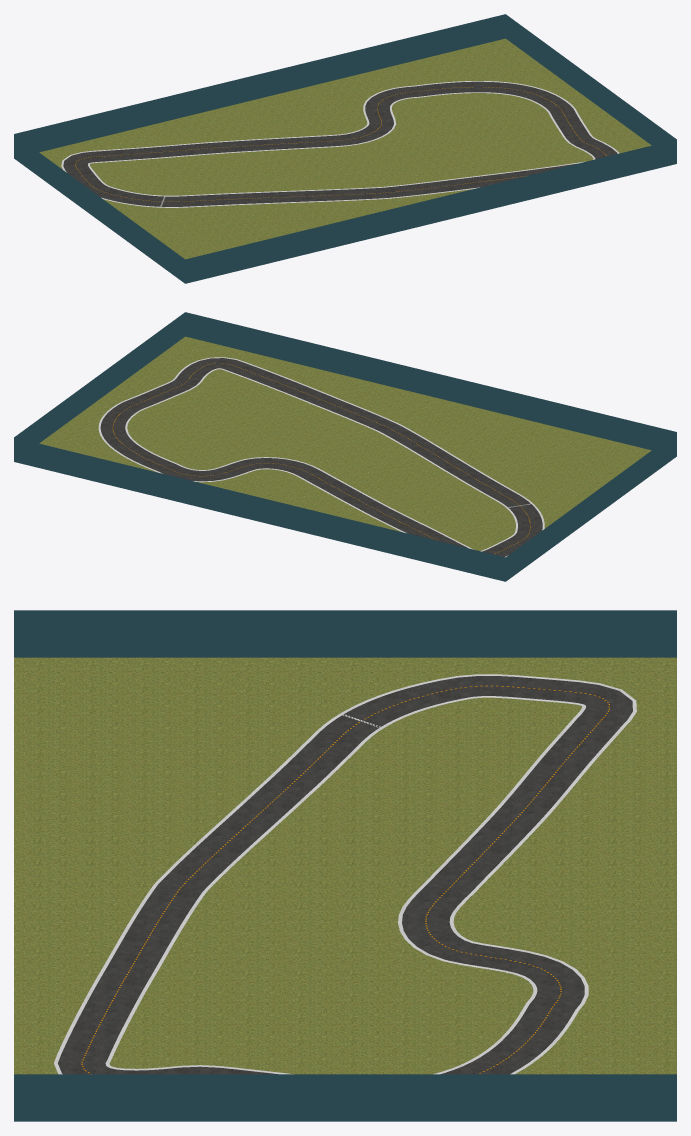
The model's file is 2022_october_open_cw.dae.
The picture shows the model from 3 angles, top to bottom: view 1: azimuth 30°, elevation 25°; view 2: azimuth 150°, elevation 25°; view 3: azimuth 270°, elevation 25°; orthographic projection. The views are drawn at different scales.
Parts seen in each view (by area): view 1: field, wall, road, ol, il, cl; view 2: field, wall, road, ol, il, cl; view 3: field, wall, road, ol, il, cl.
Boxes of the visible parts, left/top/right/bottom form: field: left=39, top=38, right=651, bottom=259; wall: left=14, top=14, right=676, bottom=283; road: left=63, top=81, right=617, bottom=206; ol: left=88, top=92, right=595, bottom=196; il: left=61, top=81, right=619, bottom=207; cl: left=75, top=87, right=606, bottom=201; field: left=39, top=336, right=651, bottom=550; wall: left=14, top=312, right=676, bottom=581; road: left=100, top=358, right=542, bottom=556; ol: left=125, top=368, right=517, bottom=551; il: left=98, top=357, right=544, bottom=557; cl: left=112, top=363, right=530, bottom=553; field: left=14, top=657, right=676, bottom=1074; wall: left=14, top=610, right=676, bottom=1121; road: left=58, top=676, right=632, bottom=1074; ol: left=105, top=696, right=585, bottom=1074; il: left=54, top=674, right=636, bottom=1074; cl: left=81, top=685, right=609, bottom=1074.
Bounding box in the file's own units: 21.04 × 12.7 × 1.
Materials: 7 (7 with a texture image).
